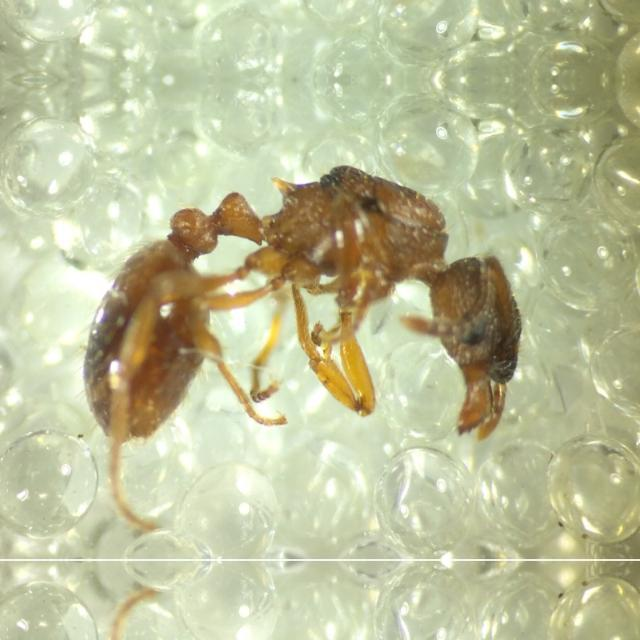Myrmica: (76, 148, 524, 470)
